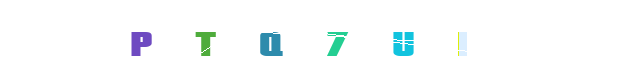7: (259, 0, 339, 80)
I: (363, 0, 443, 80)
P: (100, 0, 180, 80)
Q: (254, 0, 334, 80)
T: (186, 0, 266, 80)
U: (281, 0, 361, 80)
